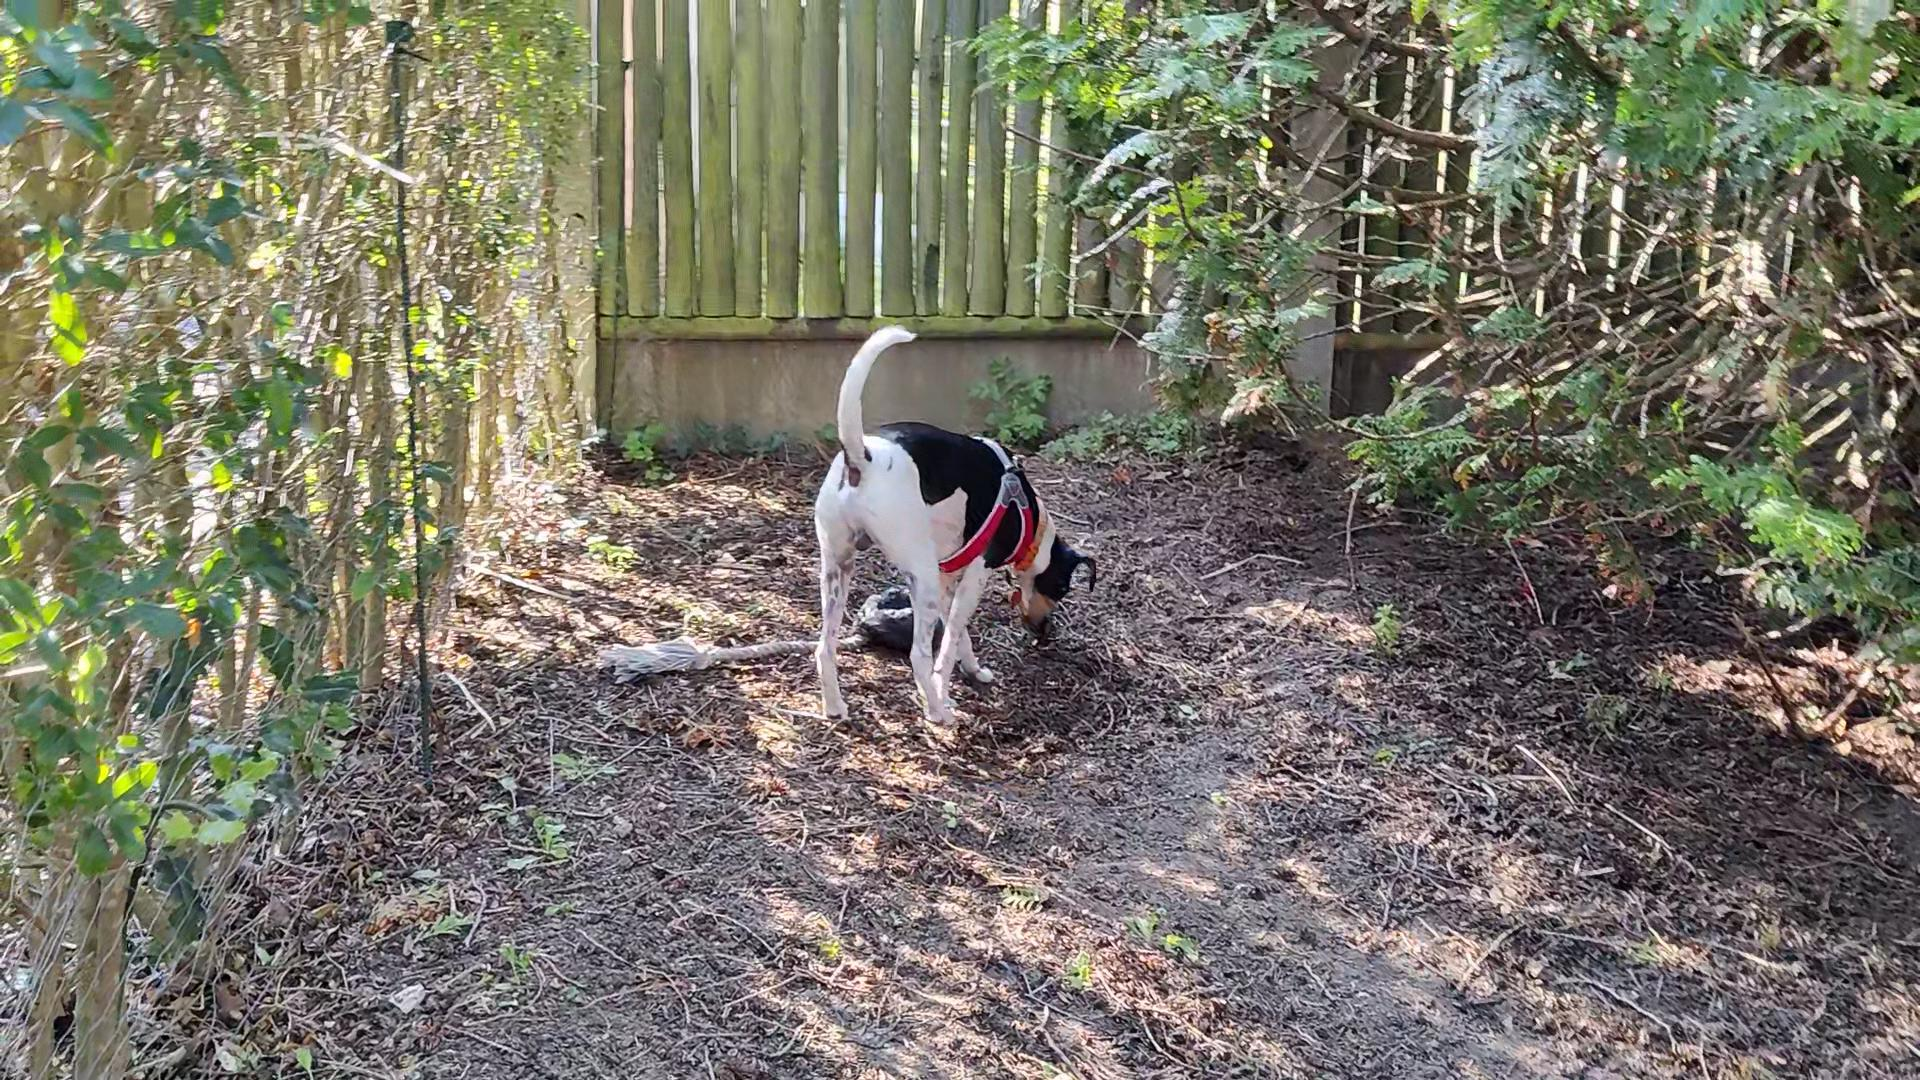Dog: (794, 303, 1105, 754)
